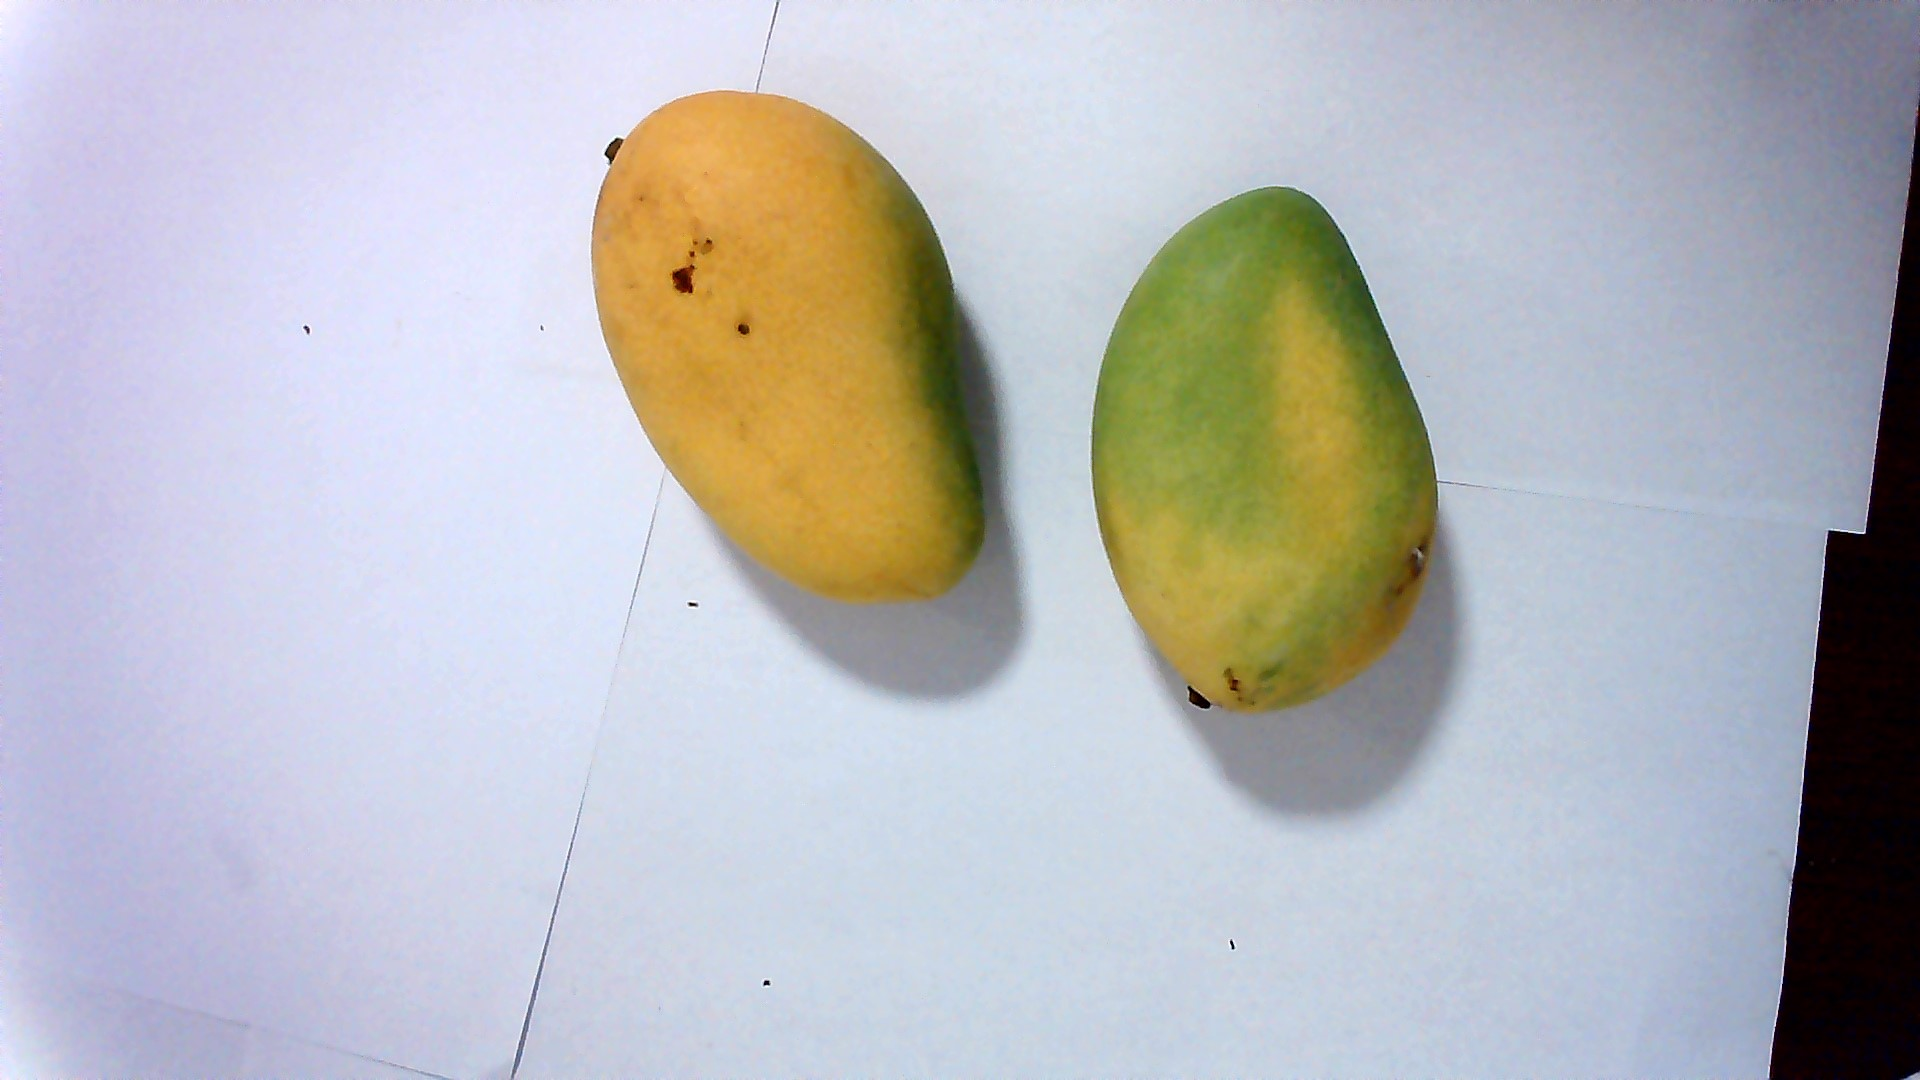mongo: (583, 92, 1004, 609), (1092, 185, 1437, 698)
